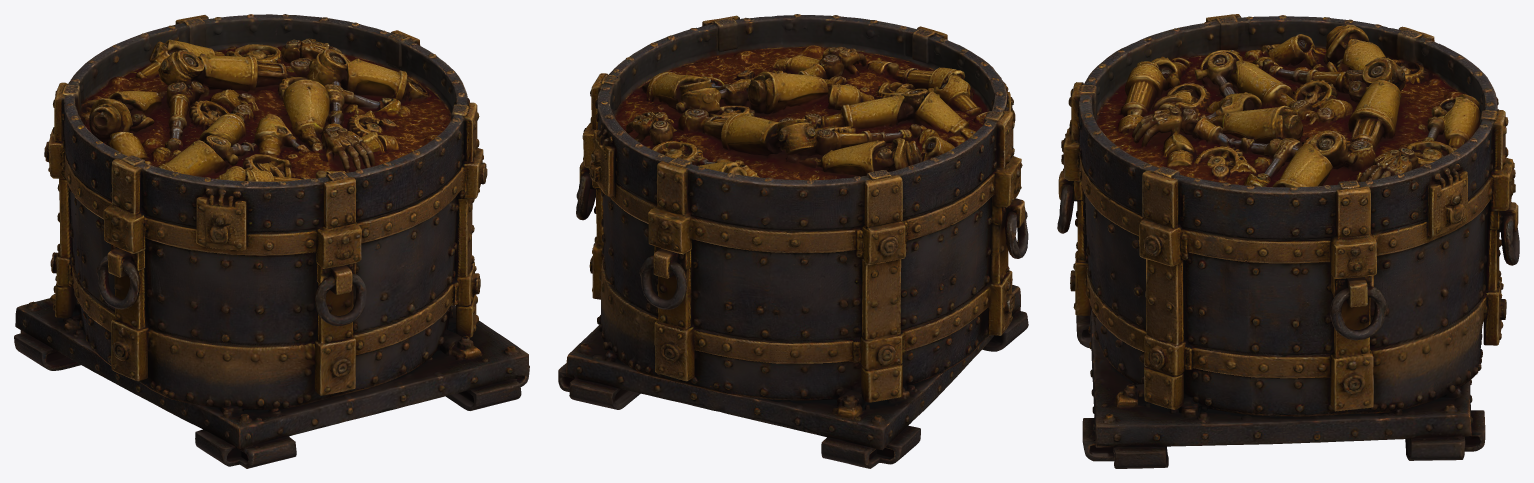
The model's file is raw_vat_gold.glb.
3 renders of one model, left to right at view 1: azimuth 30°, elevation 25°; view 2: azimuth 150°, elevation 25°; view 3: azimuth 270°, elevation 25°, orthographic. The views are drawn at different scales.
Parts seen in each view (by area): view 1: tripo_node_e761ffb9-e598-4c0c-bf1c-ea8c698e3f0b; view 2: tripo_node_e761ffb9-e598-4c0c-bf1c-ea8c698e3f0b; view 3: tripo_node_e761ffb9-e598-4c0c-bf1c-ea8c698e3f0b.
Boxes of the visible parts, <box> form: tripo_node_e761ffb9-e598-4c0c-bf1c-ea8c698e3f0b: <box>14,14,529,468</box>; tripo_node_e761ffb9-e598-4c0c-bf1c-ea8c698e3f0b: <box>558,14,1028,468</box>; tripo_node_e761ffb9-e598-4c0c-bf1c-ea8c698e3f0b: <box>1057,14,1519,468</box>.
Bounding box in the file's own units: 0.9927 × 0.7277 × 1.
Materials: 1 (1 with a texture image).
